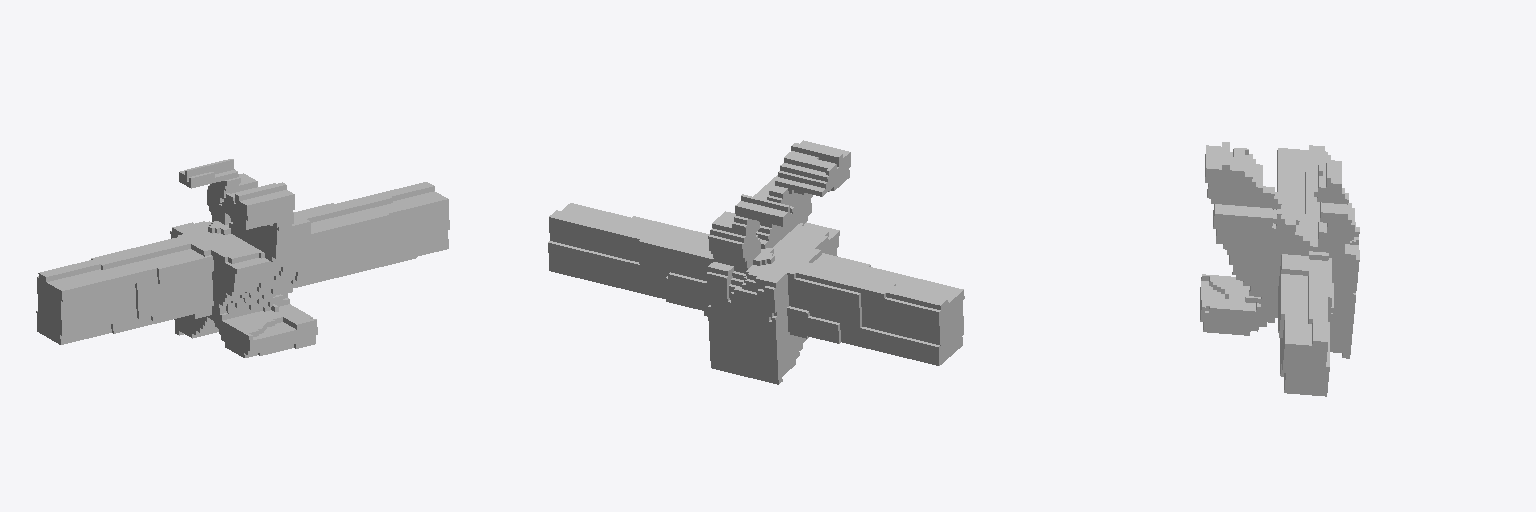
Rendered from crocodilo_part1.obj.
The picture shows the model from 3 angles: view 1: azimuth 30°, elevation 25°; view 2: azimuth 150°, elevation 25°; view 3: azimuth 270°, elevation 25°; orthographic projection.
Parts seen in each view (by area): view 1: Cube; view 2: Cube; view 3: Cube.
Boxes of the visible parts, <box> form: Cube: <box>36,159,449,357</box>; Cube: <box>548,140,964,384</box>; Cube: <box>1200,142,1359,396</box>.
Size of the model in its own units: 14.89 by 6.71 by 5.27.